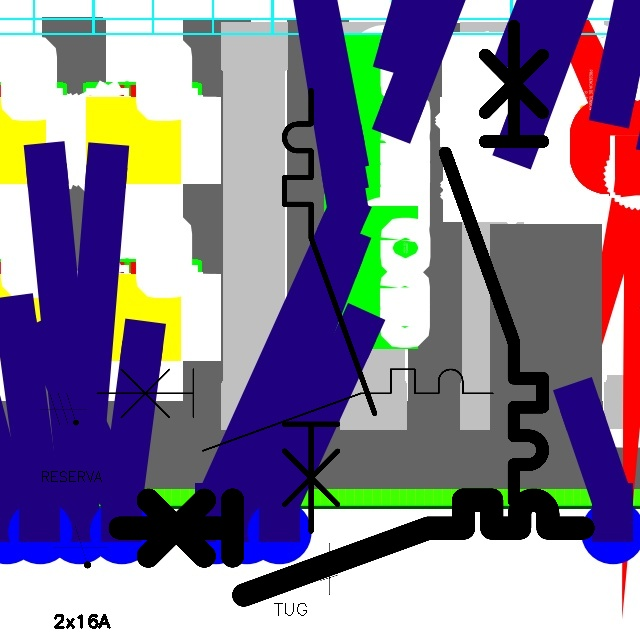interruptor_termomagnetico: (433, 14, 555, 513), (108, 488, 595, 607), (273, 79, 386, 543), (87, 359, 503, 461)
